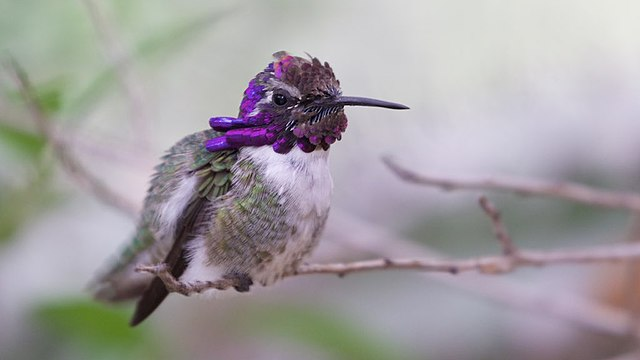calypte costae: (94, 54, 413, 327)
